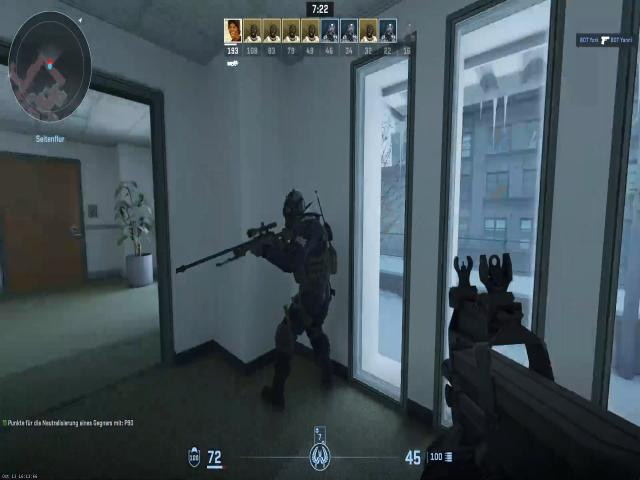CT: (267, 191, 338, 323)
CT-Head: (280, 183, 310, 233)
